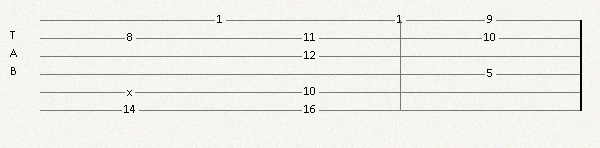1: (217, 14, 227, 26), (397, 14, 407, 26)
10: (304, 86, 320, 98), (484, 32, 500, 44)
11: (304, 32, 320, 44)
12: (304, 50, 320, 62)
14: (124, 104, 140, 116)
16: (304, 104, 320, 116)
5: (487, 68, 497, 80)
8: (127, 32, 137, 44)
9: (487, 14, 497, 26)
x: (127, 87, 136, 97)
